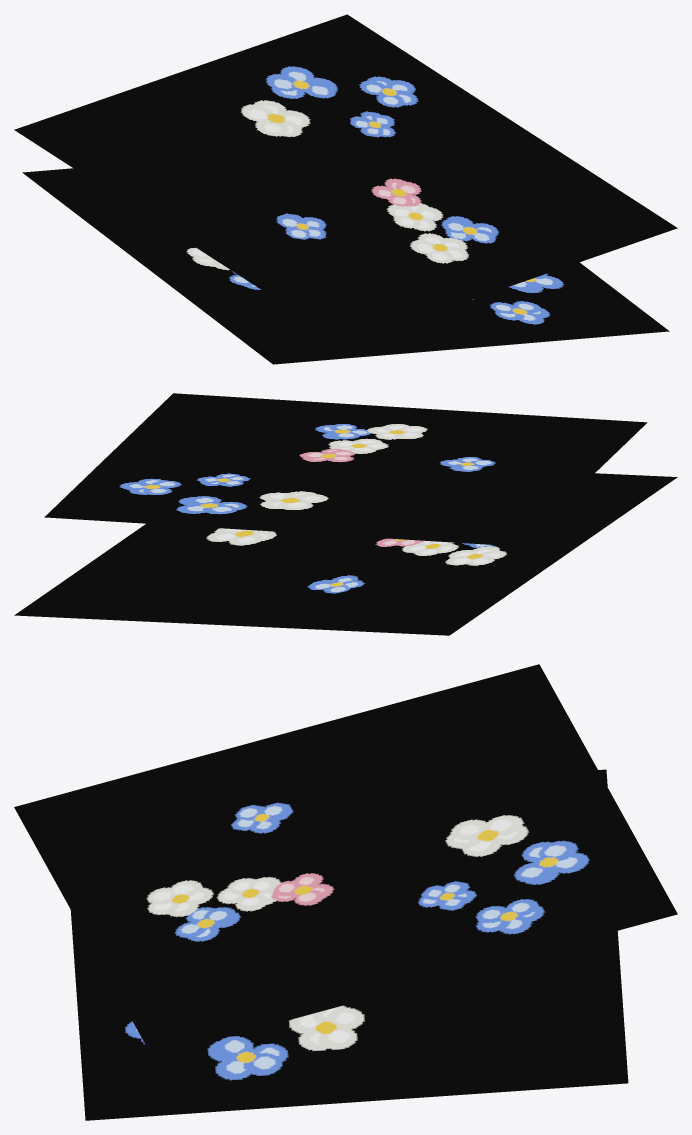
The model's file is flowers_a.glb.
3 renders of one model, top to bottom at view 1: azimuth 30°, elevation 25°; view 2: azimuth 150°, elevation 25°; view 3: azimuth 270°, elevation 25°, orthographic. The views are drawn at different scales.
Parts seen in each view (by area): view 1: flowers_a; view 2: flowers_a; view 3: flowers_a.
Boxes of the visible parts, <box> form: flowers_a: <box>14,14,677,364</box>; flowers_a: <box>14,393,677,635</box>; flowers_a: <box>14,664,677,1120</box>.
Bounding box in the file's own units: 0.8554 × 0.28 × 0.8554.
Materials: 1 (1 with a texture image).
